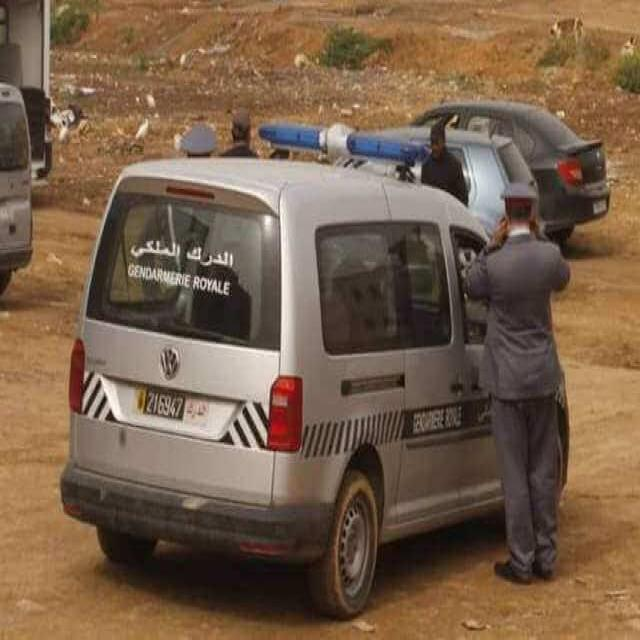gendarme car: (54, 113, 568, 617)
